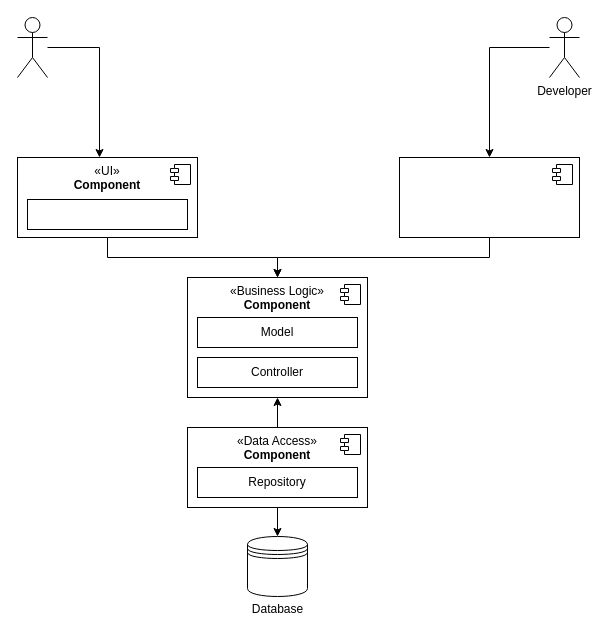
Some shapes in this 609 by 642 pixel diagram are drawn without their labels. The centre of each missing label's shape, as x and y in pixels:
"User" goes at point (32, 47).
"View" goes at point (107, 214).
"«Tech UI» Component" goes at point (489, 197).
